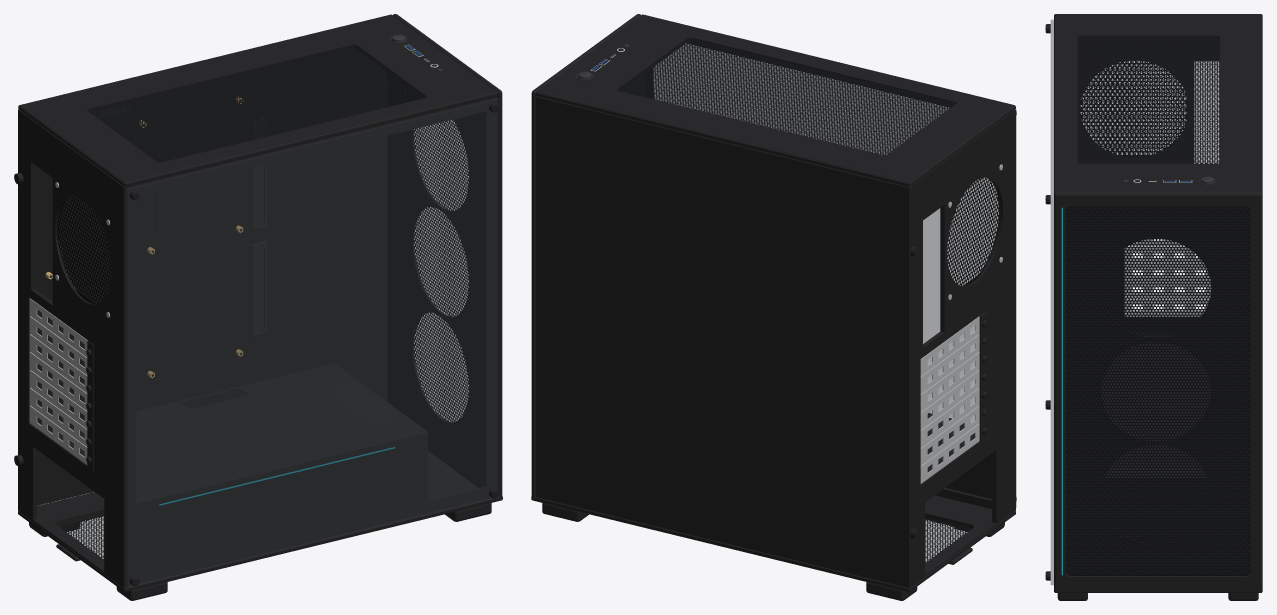
3 views of the same model, side by side, from view 1: azimuth 30°, elevation 25°; view 2: azimuth 150°, elevation 25°; view 3: azimuth 270°, elevation 25° (orthographic). The views are drawn at different scales.
Parts seen in each view (by area): view 1: case_body, case_glass, case_panel_right, slot_cover_2, slot_cover_6, slot_cover_4, slot_cover_7, slot_cover_3, slot_cover_5, slot_cover_1; view 2: case_panel_right, case_body, case_glass, slot_cover_7, slot_cover_6, slot_cover_2, slot_cover_3, slot_cover_5, slot_cover_4, slot_cover_1; view 3: case_body, case_glass, slot_cover_7, slot_cover_6, slot_cover_5, slot_cover_4.
Part boxes in pixels (x1,y1,x2,y2): case_body: (14,14,502,600); case_glass: (125,97,499,587); case_panel_right: (18,56,387,505); slot_cover_2: (29,316,87,375); slot_cover_6: (29,387,87,446); slot_cover_4: (29,352,87,410); slot_cover_7: (29,405,87,464); slot_cover_3: (29,334,87,392); slot_cover_5: (29,370,87,428); slot_cover_1: (29,298,87,357); case_panel_right: (536,96,909,588); case_body: (531,14,1015,600); case_glass: (646,44,1016,507); slot_cover_7: (920,423,979,483); slot_cover_6: (920,405,979,465); slot_cover_2: (920,334,979,394); slot_cover_3: (920,352,979,412); slot_cover_5: (920,388,979,447); slot_cover_4: (920,370,979,429); slot_cover_1: (920,316,979,376); case_body: (1054,14,1262,600); case_glass: (1045,20,1053,584); slot_cover_7: (1124,298,1209,315); slot_cover_6: (1124,281,1211,297); slot_cover_5: (1124,264,1210,280); slot_cover_4: (1124,246,1203,263).
Bounding box in the file's own units: 0.4551 × 0.4834 × 0.229.
Materials: 15 (4 with a texture image).
